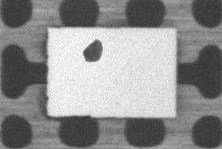DIE_INK: (119, 25, 155, 43)
